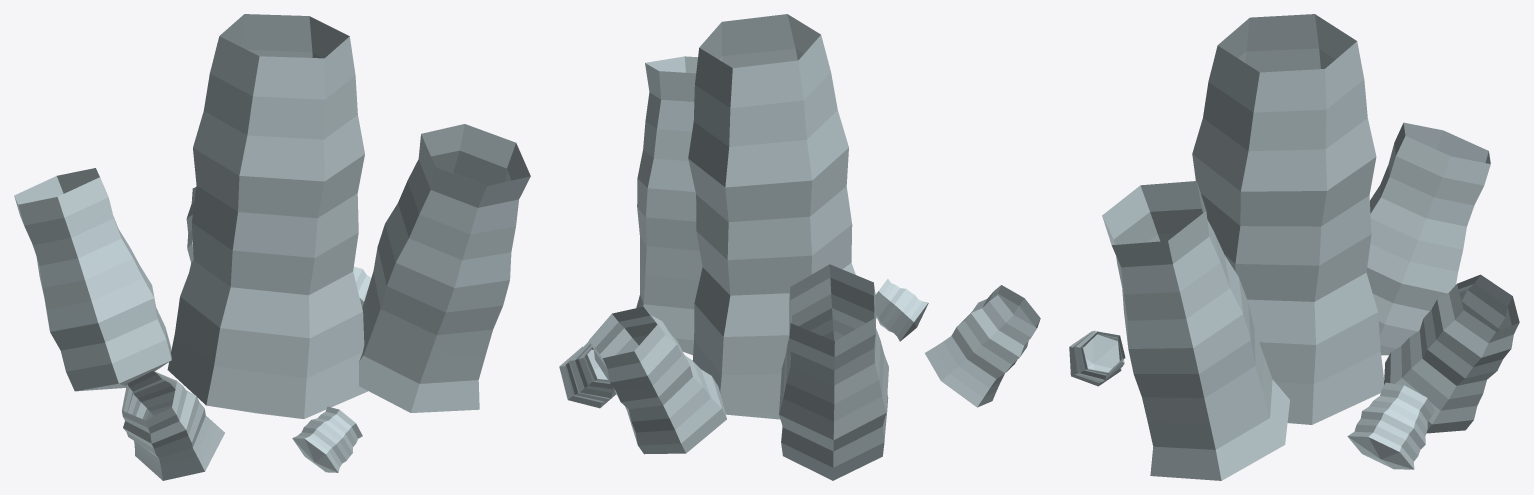
The model's file is crystal.glb.
3 renders of one model, left to right at view 1: azimuth 30°, elevation 25°; view 2: azimuth 150°, elevation 25°; view 3: azimuth 270°, elevation 25°, orthographic. The views are drawn at different scales.
Parts seen in each view (by area): view 1: crystal.001; view 2: crystal.001; view 3: crystal.001.
Part boxes in pixels (x1=…): crystal.001: x1=14, y1=14, x2=530, y2=480; crystal.001: x1=559, y1=14, x2=1040, y2=480; crystal.001: x1=1069, y1=14, x2=1519, y2=480.
Bounding box in the file's own units: 2.11 × 1.93 × 2.02.
